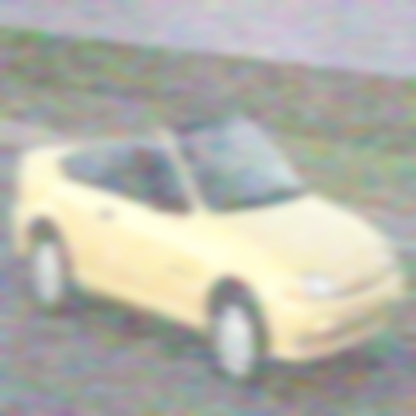Vehicle: (12, 103, 410, 391)
